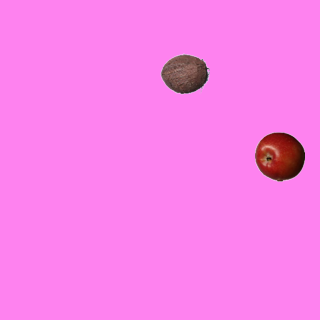Apple Braeburn: (254, 131, 304, 181)
Cocos: (159, 48, 209, 98)
